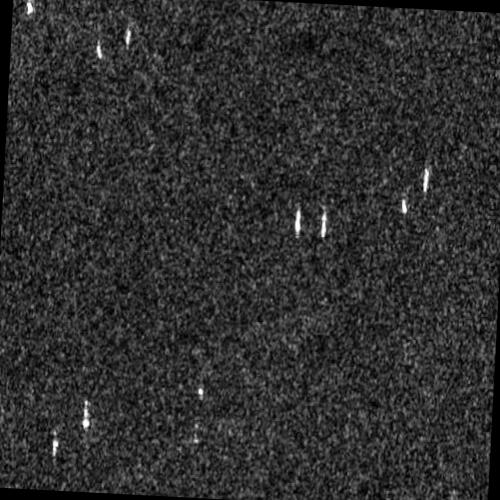ship: (49, 429, 59, 460), (81, 398, 90, 431), (293, 206, 302, 238), (422, 166, 430, 193), (320, 210, 327, 240), (25, 0, 35, 17), (95, 38, 103, 59), (125, 28, 132, 49), (401, 196, 408, 215), (196, 385, 205, 399)
